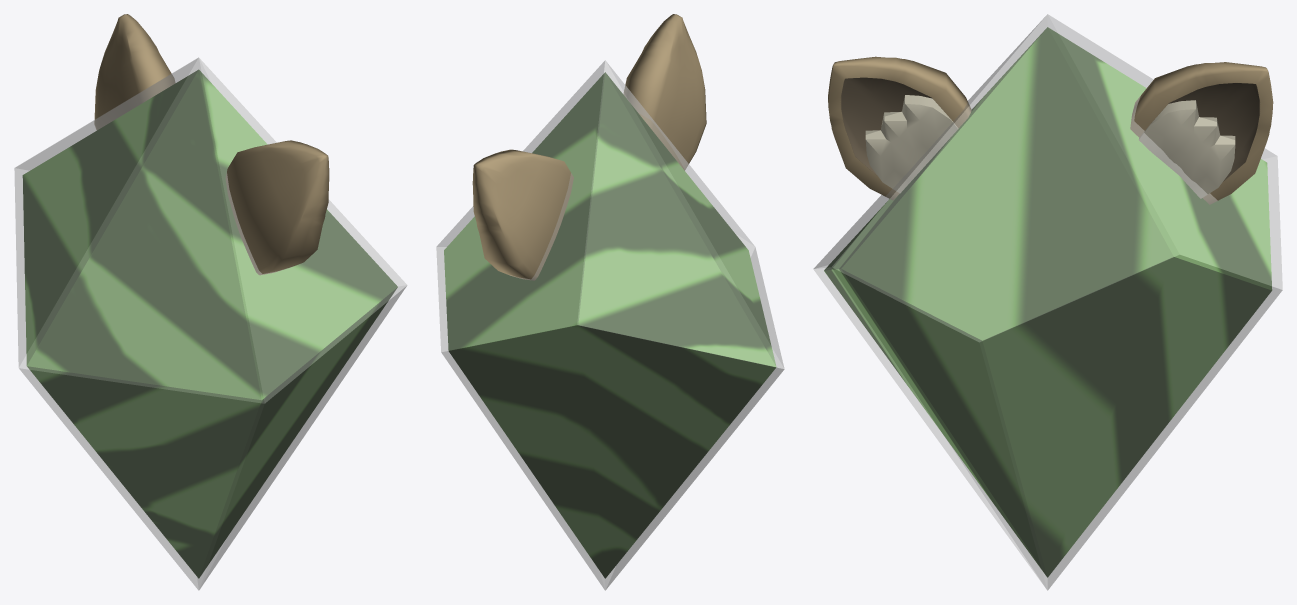
Rendered from GEMA SLIME FURRO.fbx.
The picture shows the model from 3 angles, left to right: view 1: azimuth 30°, elevation 25°; view 2: azimuth 150°, elevation 25°; view 3: azimuth 270°, elevation 25°; orthographic projection. The views are drawn at different scales.
Visible parts, largest first — view 1: GEM 2, GEM, Orejas.001, Orejas; view 2: GEM 2, GEM, Orejas, Orejas.001; view 3: GEM 2, GEM, Orejas, Orejas.001, Pelo_orejas, Pelo_orejas.001.
Part boxes in pixels (x1,y1,x2,y2): GEM 2: (14,57,407,590); GEM: (22,69,397,578); Orejas.001: (225,140,329,275); Orejas: (94,14,175,129); GEM 2: (436,60,784,590); GEM: (444,72,776,578); Orejas: (472,149,573,280); Orejas.001: (623,14,706,170); GEM 2: (813,14,1282,590); GEM: (824,27,1271,577); Orejas: (1130,62,1273,204); Orejas.001: (828,56,971,200); Pelo_orejas: (1139,100,1235,198); Pelo_orejas.001: (865,95,958,193).
Bounding box in the file's own units: 178 × 296 × 219.
